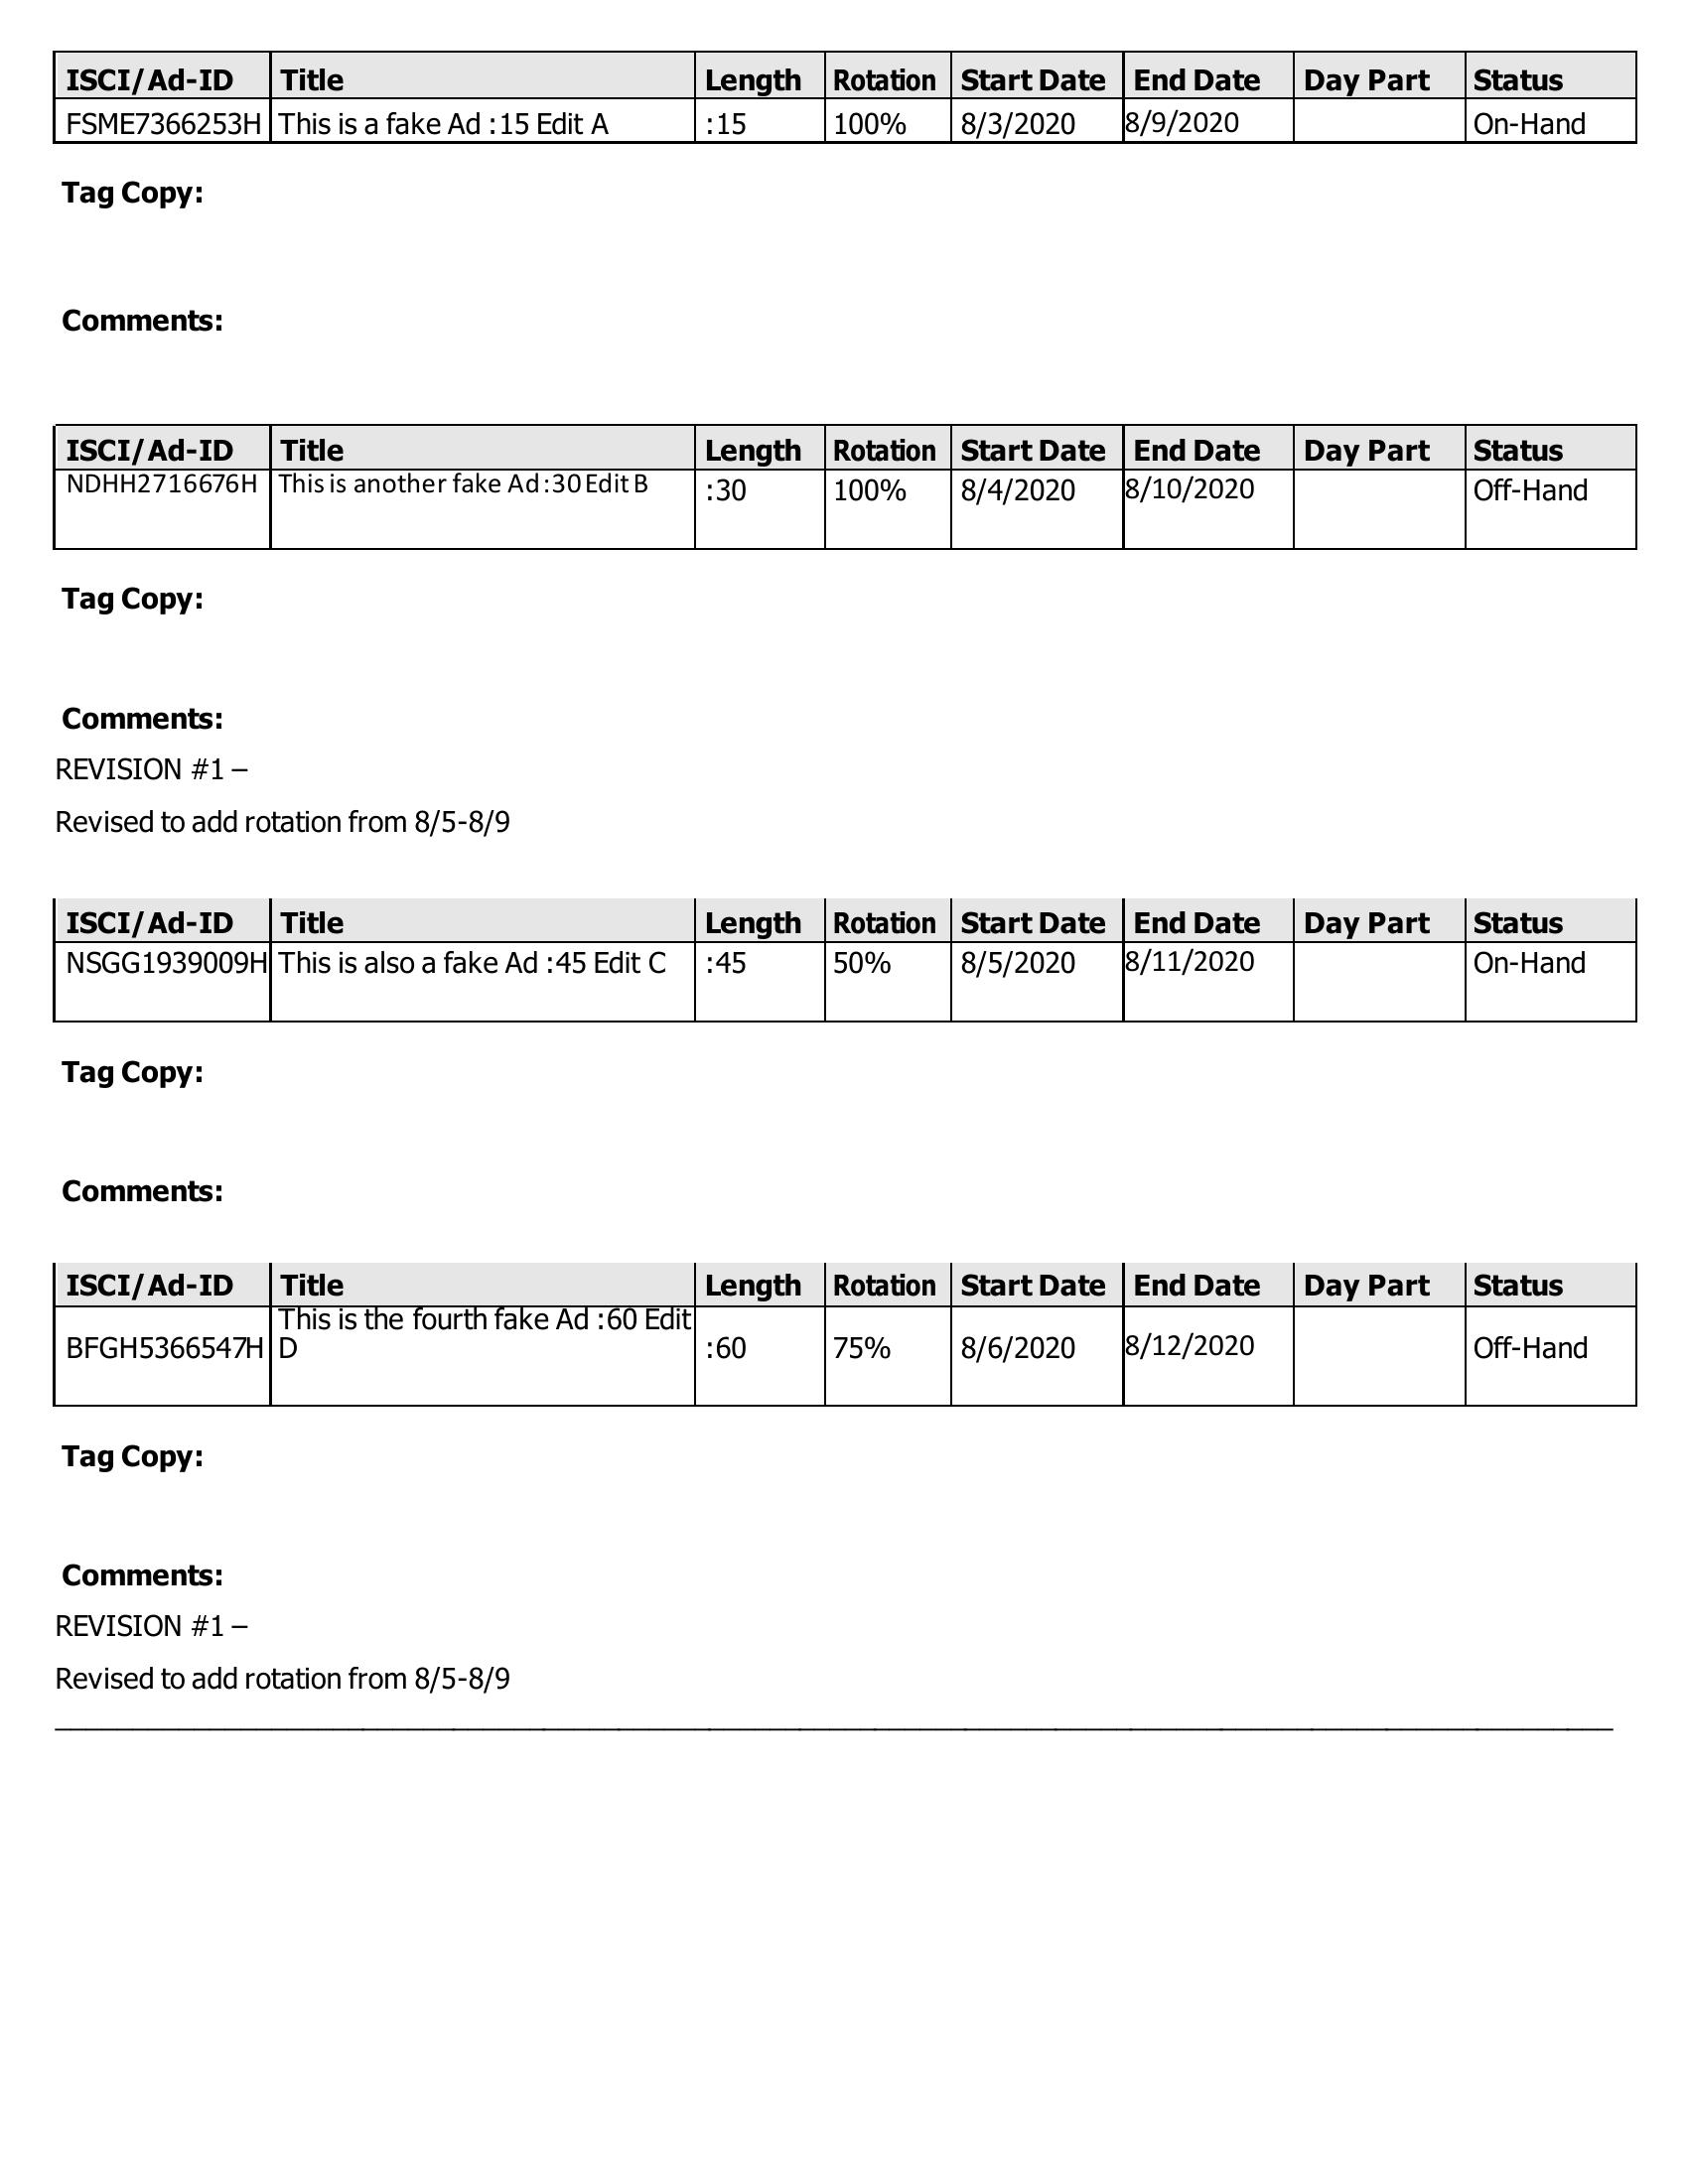table: (34, 1243, 1660, 1432), (35, 401, 1649, 567), (39, 876, 1654, 1041), (34, 30, 1661, 172)
